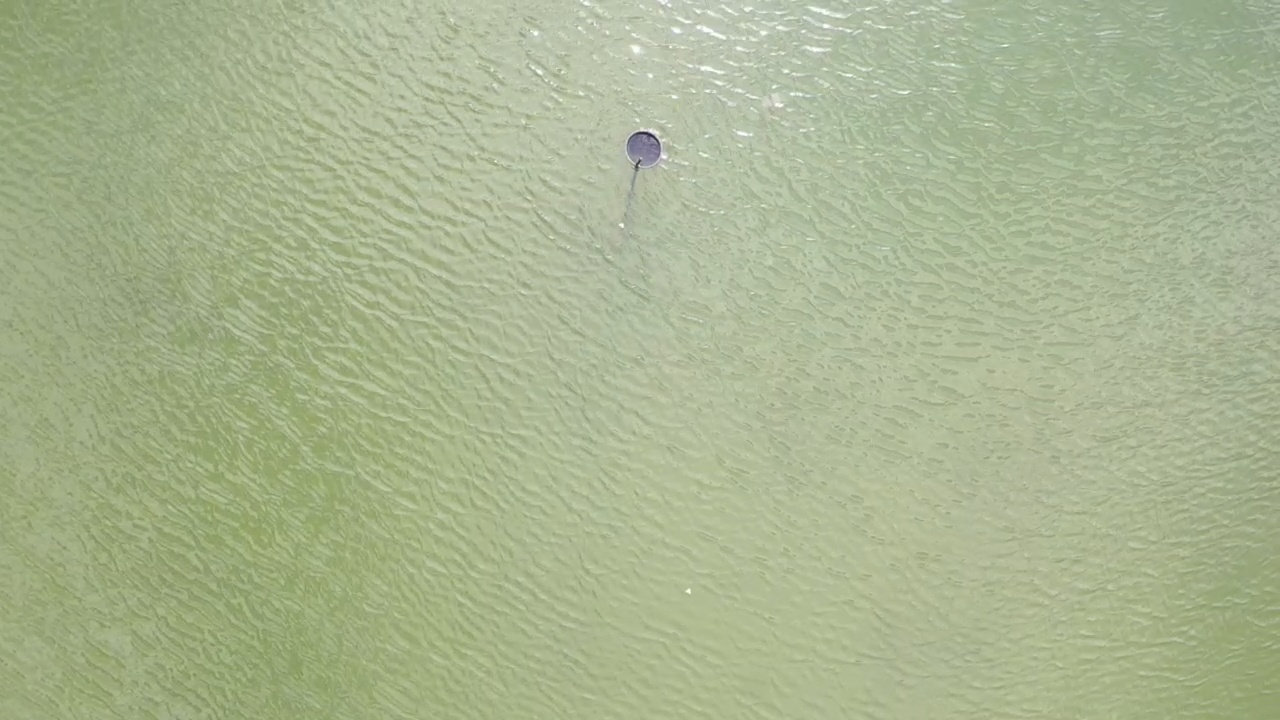meduse: (762, 92, 782, 110)
